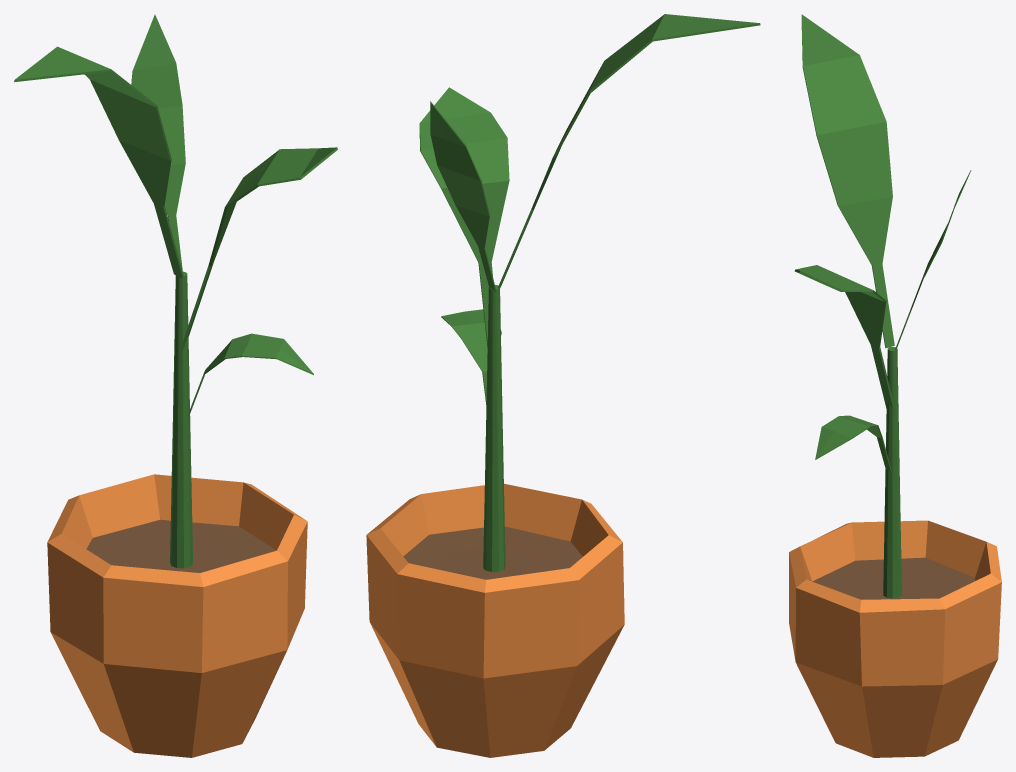
File: Flower_43.fbx
3 views of the same model, side by side, from view 1: azimuth 30°, elevation 25°; view 2: azimuth 150°, elevation 25°; view 3: azimuth 270°, elevation 25° (orthographic). The views are drawn at different scales.
Visible parts, largest first — view 1: Flower_43; view 2: Flower_43; view 3: Flower_43.
Part boxes in pixels (x1,y1,x2,y2): Flower_43: (14, 14, 337, 757); Flower_43: (366, 14, 760, 757); Flower_43: (789, 14, 1001, 757).
Size of the model in its own units: 86.44 by 57.15 by 186.
